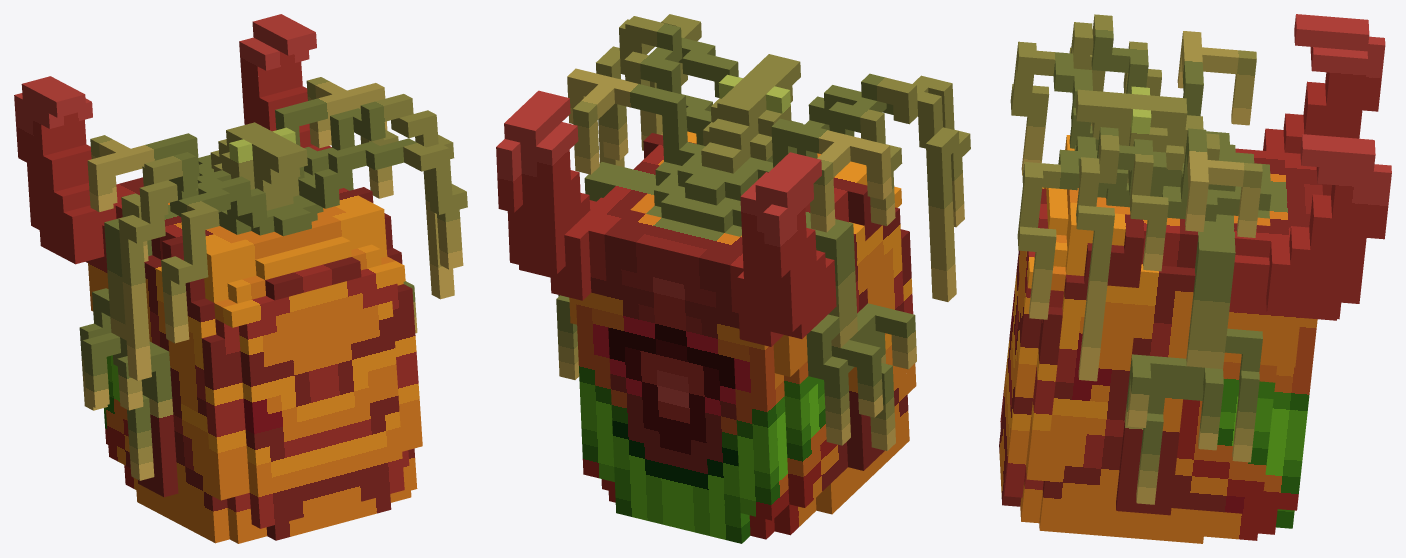
3 views of the same model, side by side, from view 1: azimuth 30°, elevation 25°; view 2: azimuth 150°, elevation 25°; view 3: azimuth 270°, elevation 25° (orthographic). The views are drawn at different scales.
Visible parts, largest first — view 1: Equip_Head-Local; view 2: Equip_Head-Local; view 3: Equip_Head-Local.
Part boxes in pixels (left/top/right/bottom): Equip_Head-Local: left=14, top=14, right=467, bottom=543; Equip_Head-Local: left=496, top=14, right=970, bottom=543; Equip_Head-Local: left=999, top=14, right=1391, bottom=543.
Size of the model in its own units: 22.16 by 25.32 by 21.52.
Materials: 1 (1 with a texture image).
